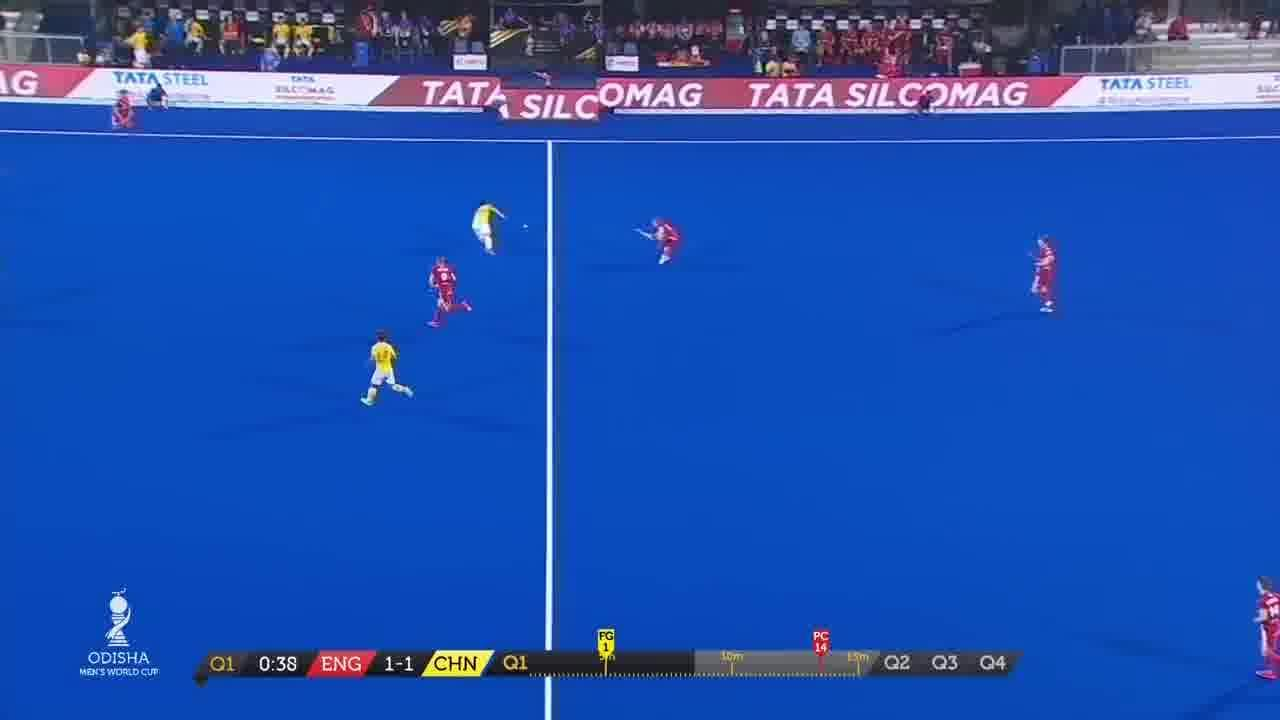ball: (517, 216, 536, 238)
